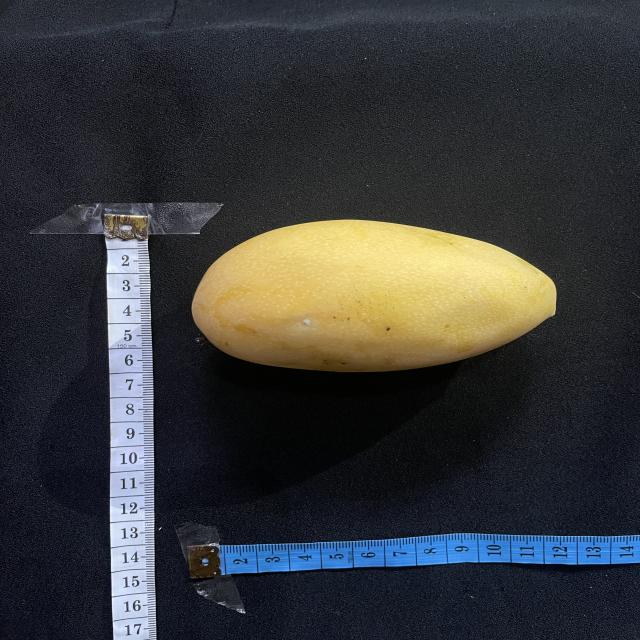Ripe: (192, 220, 556, 372)
